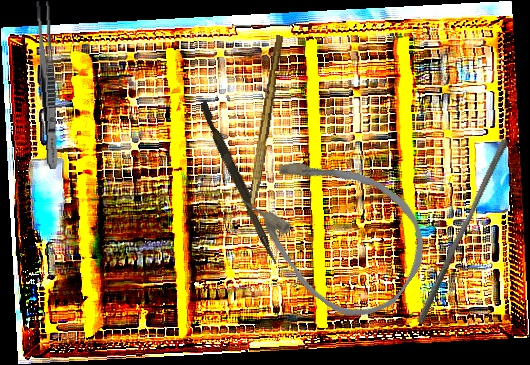Cannula: (222, 123, 447, 337)
Dressing Forceps: (33, 0, 62, 170)
Pusher: (416, 135, 510, 328), (195, 100, 284, 266)
Scalpel Handle: (248, 34, 285, 206)
